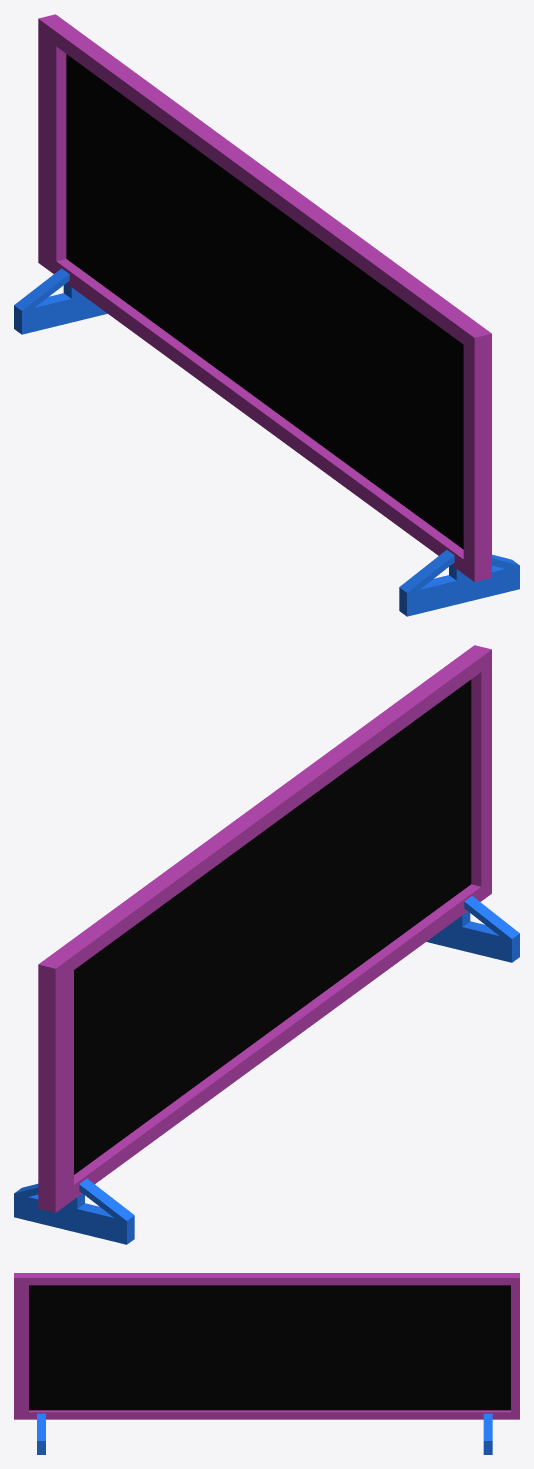
The model's file is Block Board.fbx.
The picture shows the model from 3 angles, top to bottom: view 1: azimuth 30°, elevation 25°; view 2: azimuth 150°, elevation 25°; view 3: azimuth 270°, elevation 25°; orthographic projection. The views are drawn at different scales.
Visible parts, largest first — view 1: Stand; view 2: Stand; view 3: Stand.
Boxes of the visible parts, box(x1,y1,x2,y2) form: Stand: box(14, 14, 519, 616); Stand: box(14, 645, 519, 1244); Stand: box(14, 1273, 519, 1454).
Size of the model in its own units: 277 by 660 by 1855.
